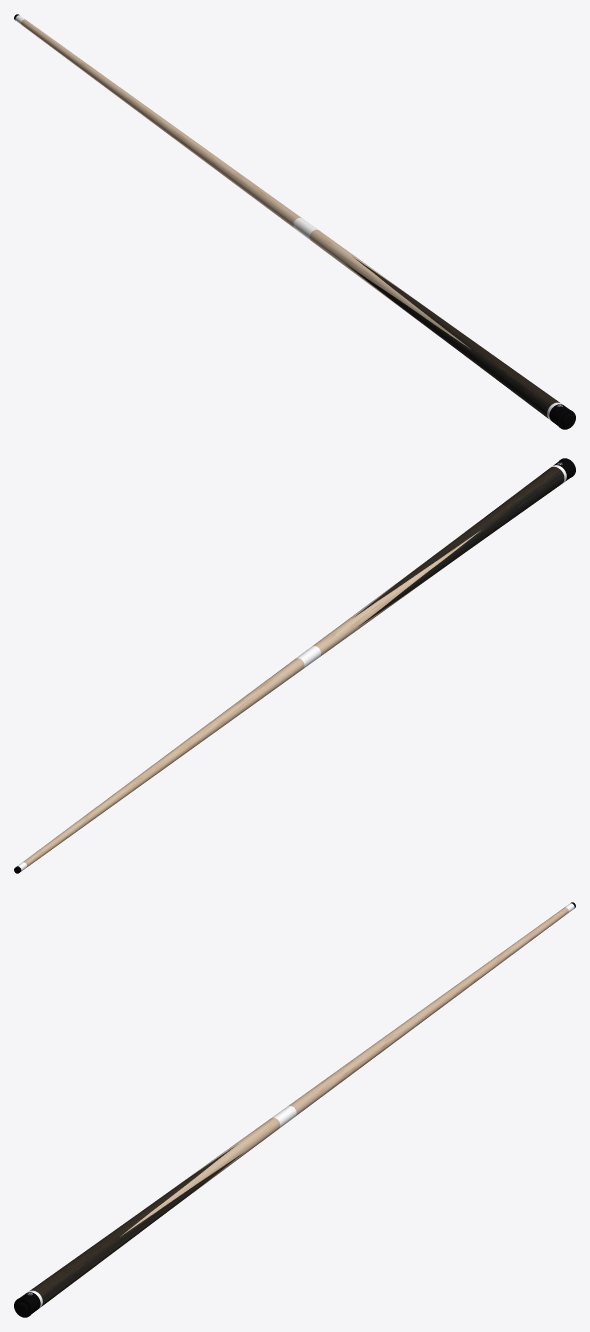
Rendered from FullSpliceModel.glb.
3 views of the same model, one above another, from view 1: azimuth 30°, elevation 25°; view 2: azimuth 150°, elevation 25°; view 3: azimuth 330°, elevation 25° (orthographic).
Visible parts, largest first — view 1: Shaft, Handle, Forearm; view 2: Shaft, Handle, Forearm; view 3: Shaft, Handle, Forearm.
Part boxes in pixels (bbox=[...]): Shaft: bbox=[21, 19, 301, 228]; Handle: bbox=[346, 257, 559, 418]; Forearm: bbox=[309, 229, 470, 348]; Shaft: bbox=[23, 658, 304, 867]; Handle: bbox=[353, 467, 564, 626]; Forearm: bbox=[313, 530, 480, 656]; Shaft: bbox=[288, 907, 568, 1116]; Handle: bbox=[30, 1145, 242, 1306]; Forearm: bbox=[120, 1117, 280, 1236].
Size of the model in its own units: 28 by 28 by 1481.
Materials: 8 (3 with a texture image).
